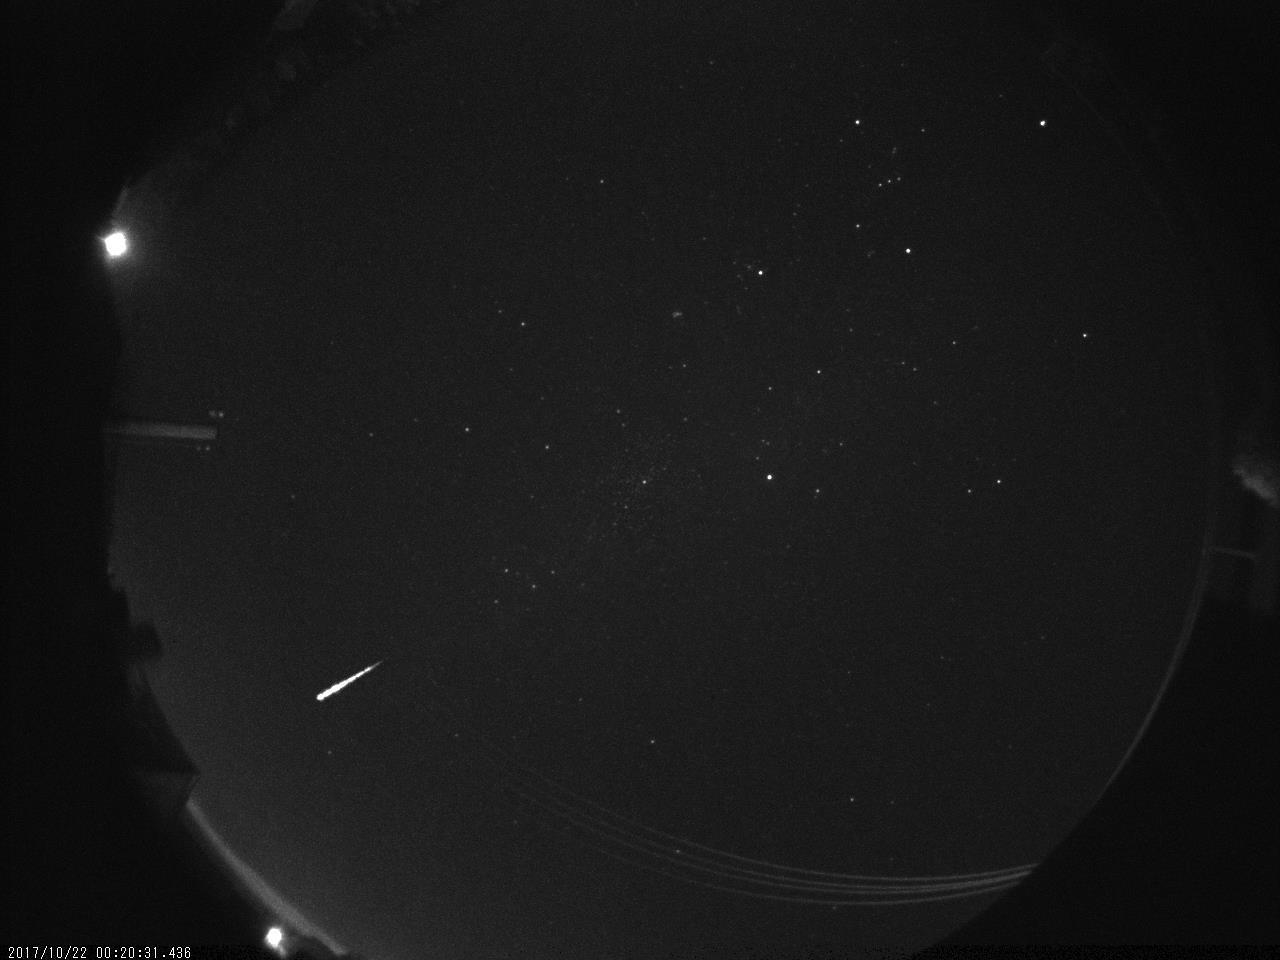Meteor: (312, 650, 390, 709)
